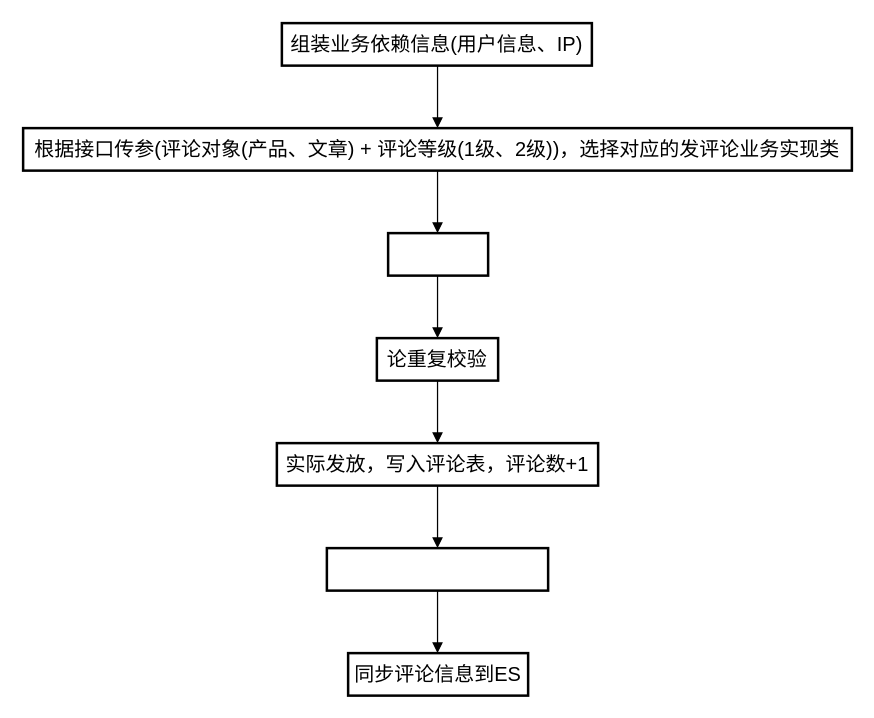
This 874x718 diagram has some shape labels left out. Here are the shapes that lost their labels. From the top down, the centre of each, then its label:
the point at 437,253: 安全审查
the point at 437,568: 发放成功后执行的业务
